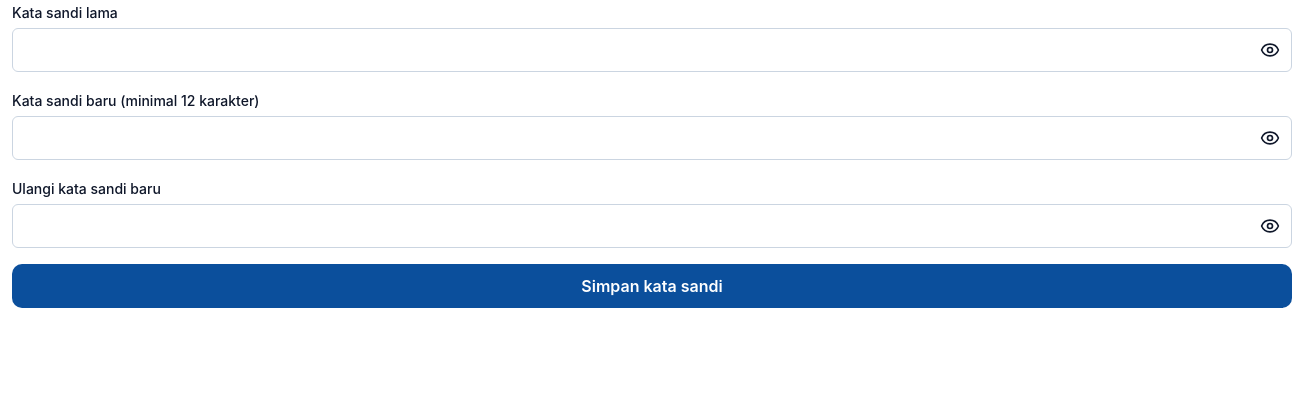
Test: FormGantiPassword › menampilkan pesan server dalam alert untuk galat tanpa field (mis. diblokir)
The image size is (1304, 399).
Type "lama-12345678" into the password field labelled "Kata sandi lama". click: (652, 50)
box: [12,28,1292,72]
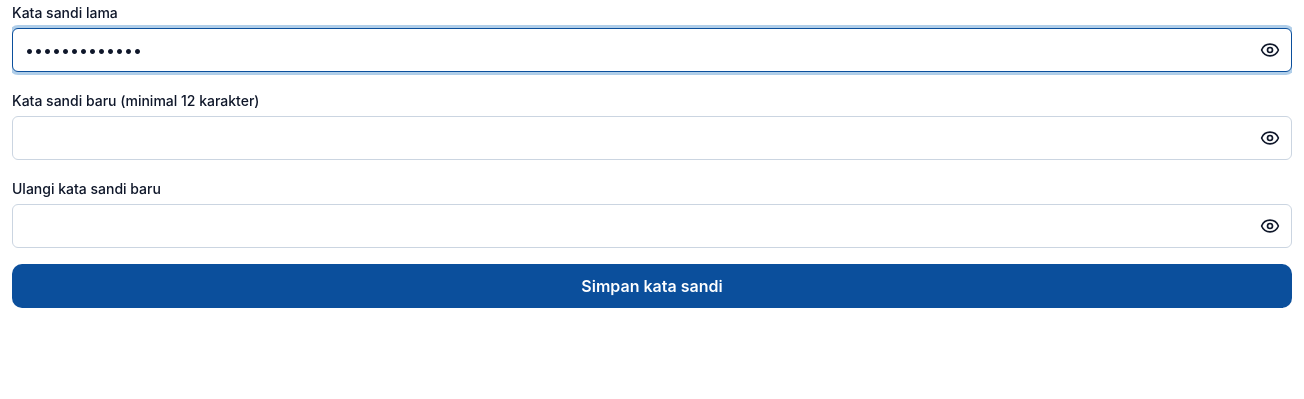
Type "baru-98765432" into the password field labelled "Kata sandi baru (minimal 12 karakter)". click: (652, 138)
box: [12,116,1292,160]
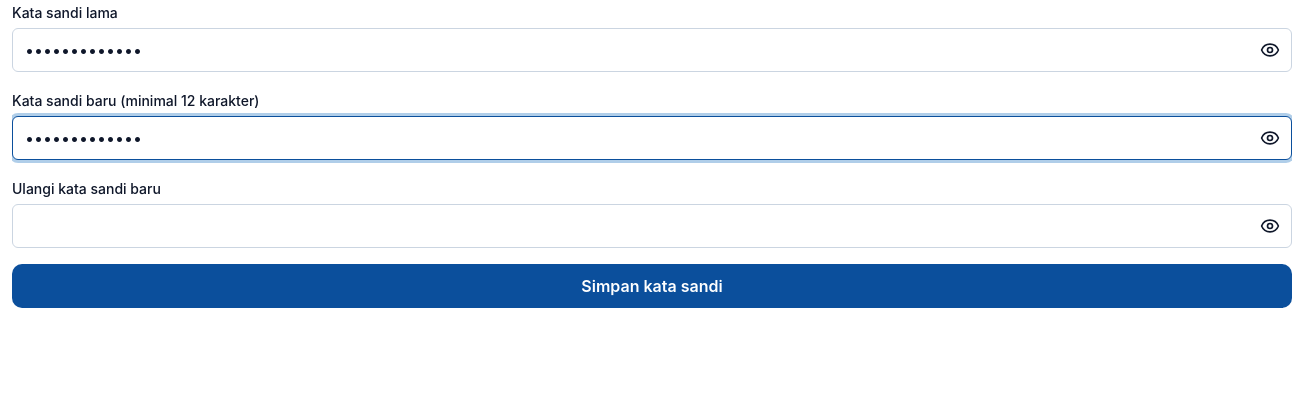
Type "baru-98765432" into the password field labelled "Ulangi kata sandi baru". click: (652, 226)
box: [12,204,1292,248]
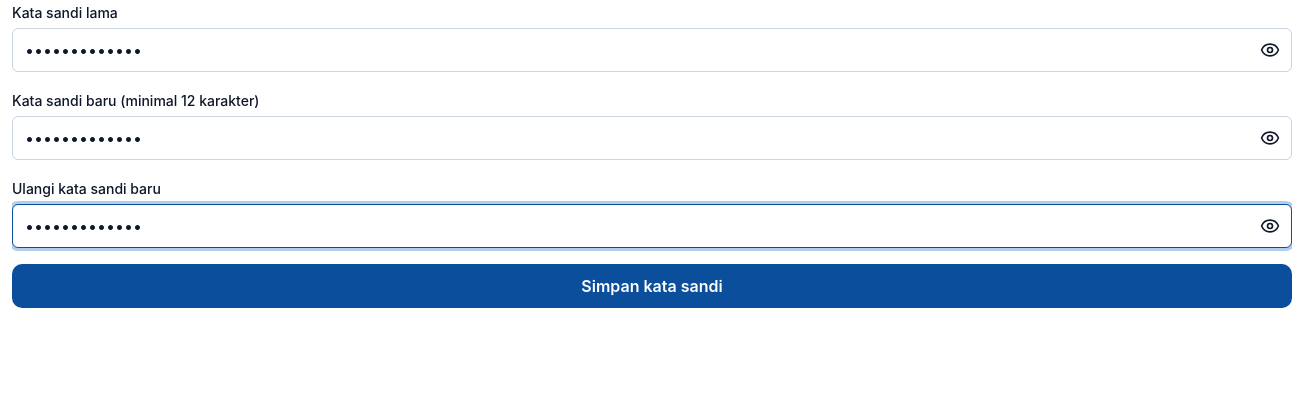
Click the button "Simpan kata sandi". click: (652, 286)
box: [12,264,1292,308]
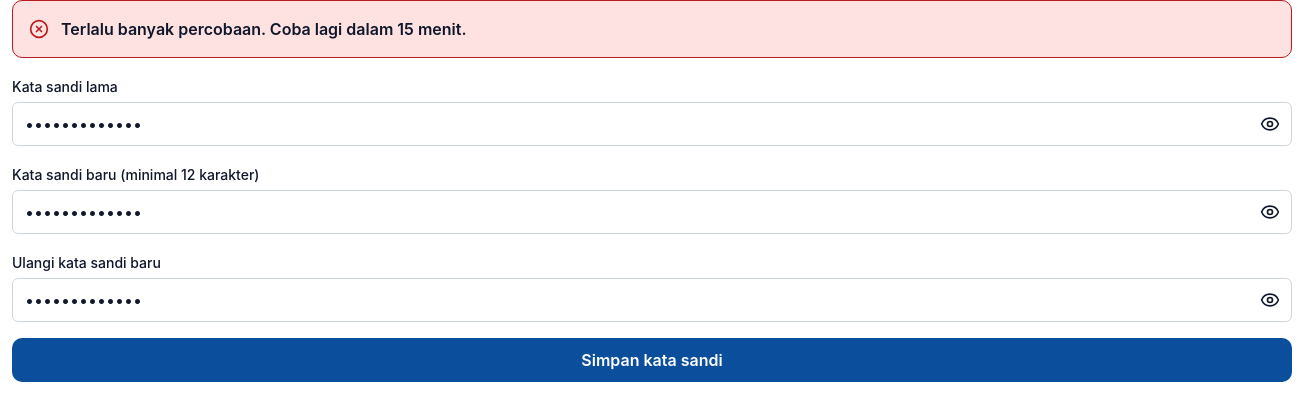
Check: the message shows "Terlalu banyak percobaan.", box [61,19,466,39]
